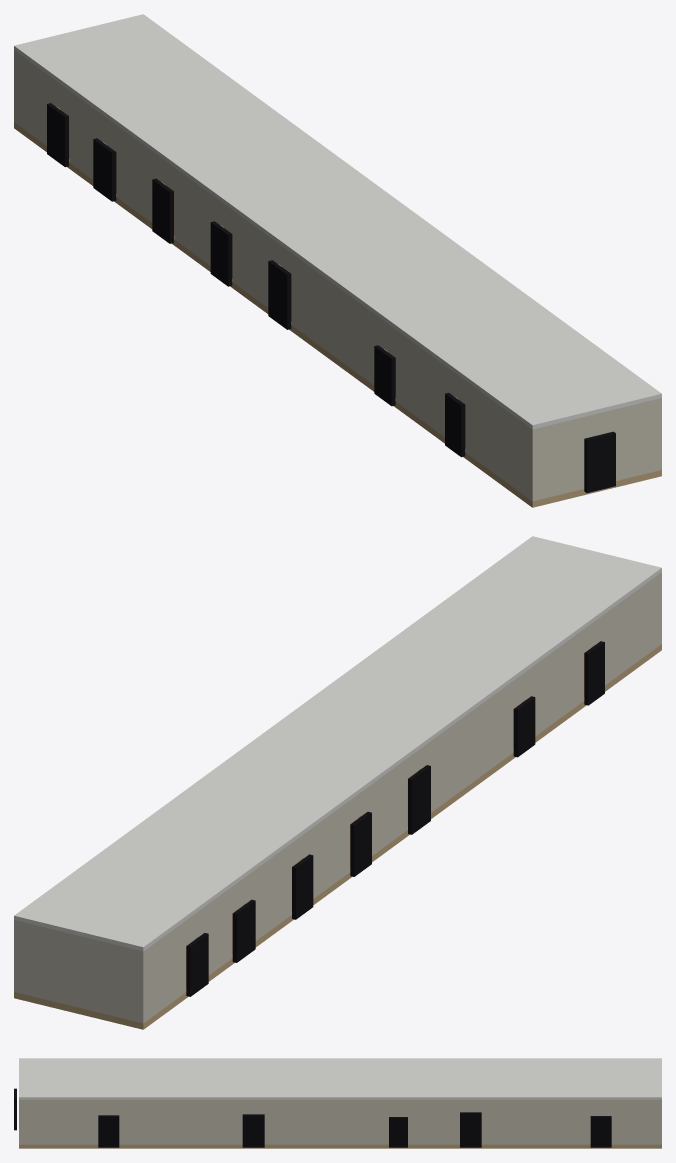
File: rdwe_door_hall.glb
3 renders of one model, top to bottom at view 1: azimuth 30°, elevation 25°; view 2: azimuth 150°, elevation 25°; view 3: azimuth 270°, elevation 25°, orthographic. The views are drawn at different scales.
Parts seen in each view (by area): view 1: Room_Ceiling, Room_Wall_W_11, Room_Wall_W_15, Room_Wall_S_1, Room_Wall_W_13, Room_Wall_S_3, Room_Floor, Room_Wall_W_7, Room_Wall_W_5, Room_Wall_W_9, Room_Wall_W_1, Room_Wall_W_3 (+8 smaller); view 2: Room_Ceiling, Room_Wall_N_1, Room_Wall_W_11, Room_Wall_W_15, Room_Wall_W_13, Room_Floor, Room_Wall_W_1, Room_Wall_W_5, Room_Wall_W_7, Room_Wall_W_9, Room_Wall_W_3, Beyond_wrong_4 (+6 smaller); view 3: Room_Ceiling, Room_Wall_E_7, Room_Wall_E_9, Room_Wall_E_3, Room_Wall_E_11, Room_Floor, Room_Wall_E_5, Room_Wall_E_1, Beyond_wrong_7, Beyond_wrong_8, Beyond_wrong_9, Beyond_wrong_6 (+6 smaller).
Boxes of the visible parts, x1,y1,x2,y2 form: Room_Ceiling: (14, 14, 661, 429); Room_Wall_W_11: (291, 253, 387, 385); Room_Wall_W_15: (465, 381, 530, 499); Room_Wall_S_1: (530, 416, 587, 501); Room_Wall_W_13: (396, 330, 457, 436); Room_Wall_S_3: (607, 398, 661, 480); Room_Floor: (14, 122, 661, 507); Room_Wall_W_7: (174, 167, 223, 265); Room_Wall_W_5: (116, 125, 165, 222); Room_Wall_W_9: (232, 210, 281, 307); Room_Wall_W_1: (16, 52, 60, 145); Room_Wall_W_3: (69, 91, 106, 179); Room_Ceiling: (14, 536, 661, 951); Room_Wall_N_1: (14, 920, 145, 1023); Room_Wall_W_11: (417, 681, 513, 812); Room_Wall_W_15: (591, 574, 659, 685); Room_Wall_W_13: (522, 629, 583, 736); Room_Floor: (14, 644, 661, 1029); Room_Wall_W_1: (145, 920, 185, 1021); Room_Wall_W_5: (242, 843, 291, 940); Room_Wall_W_7: (300, 800, 349, 898); Room_Wall_W_9: (358, 758, 407, 855); Room_Wall_W_3: (195, 887, 232, 975); Beyond_wrong_4: (408, 765, 430, 834); Room_Ceiling: (19, 1058, 661, 1099); Room_Wall_E_7: (261, 1100, 392, 1144); Room_Wall_E_9: (116, 1100, 245, 1144); Room_Wall_E_3: (478, 1100, 593, 1144); Room_Wall_E_11: (22, 1100, 101, 1144); Room_Floor: (19, 1144, 661, 1148); Room_Wall_E_5: (404, 1100, 463, 1144); Room_Wall_E_1: (608, 1100, 658, 1144); Beyond_wrong_7: (460, 1112, 481, 1147); Beyond_wrong_8: (242, 1114, 264, 1147); Beyond_wrong_9: (98, 1115, 119, 1147); Beyond_wrong_6: (590, 1116, 611, 1147).
Size of the model in its own units: 7.1 by 3.9 by 44.75.
